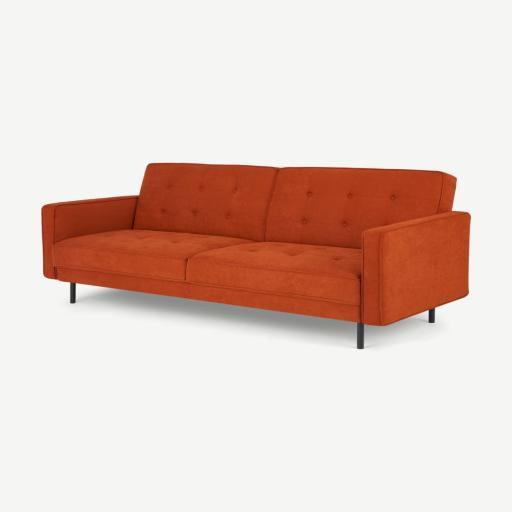back_cushion: (133, 164, 454, 248)
left_arm: (361, 212, 470, 325)
legs: (357, 323, 364, 349), (70, 282, 76, 303), (429, 310, 434, 321)
right_arm: (43, 196, 138, 278)
seat_cushion: (52, 230, 361, 306)
two-seater: (0, 0, 511, 512)
